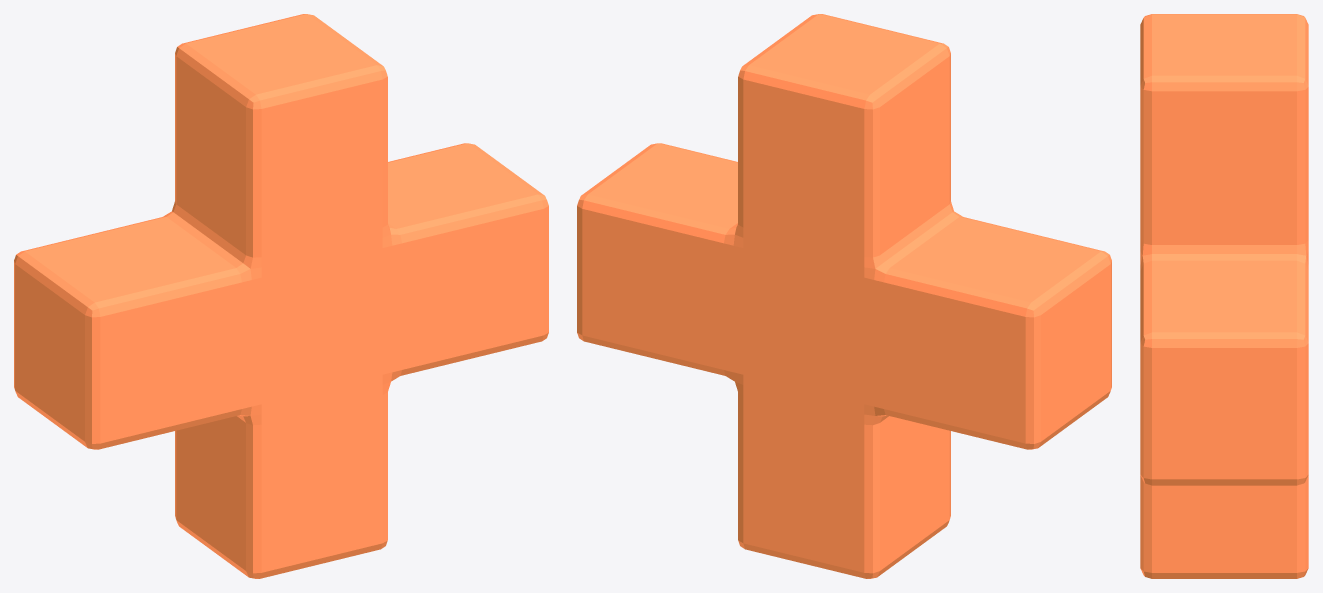
Rendered from MadeByJawns_ItchIO_GameItems_v1_0_1_FirstAid.glb.
3 views of the same model, side by side, from view 1: azimuth 30°, elevation 25°; view 2: azimuth 150°, elevation 25°; view 3: azimuth 270°, elevation 25° (orthographic). The views are drawn at different scales.
Parts seen in each view (by area): view 1: FirstAid; view 2: FirstAid; view 3: FirstAid.
Boxes of the visible parts, x1,y1,x2,y2 form: FirstAid: [14, 14, 548, 578]; FirstAid: [577, 14, 1111, 578]; FirstAid: [1140, 14, 1308, 578].
Size of the model in its own units: 5.7 by 5.7 by 1.73.
